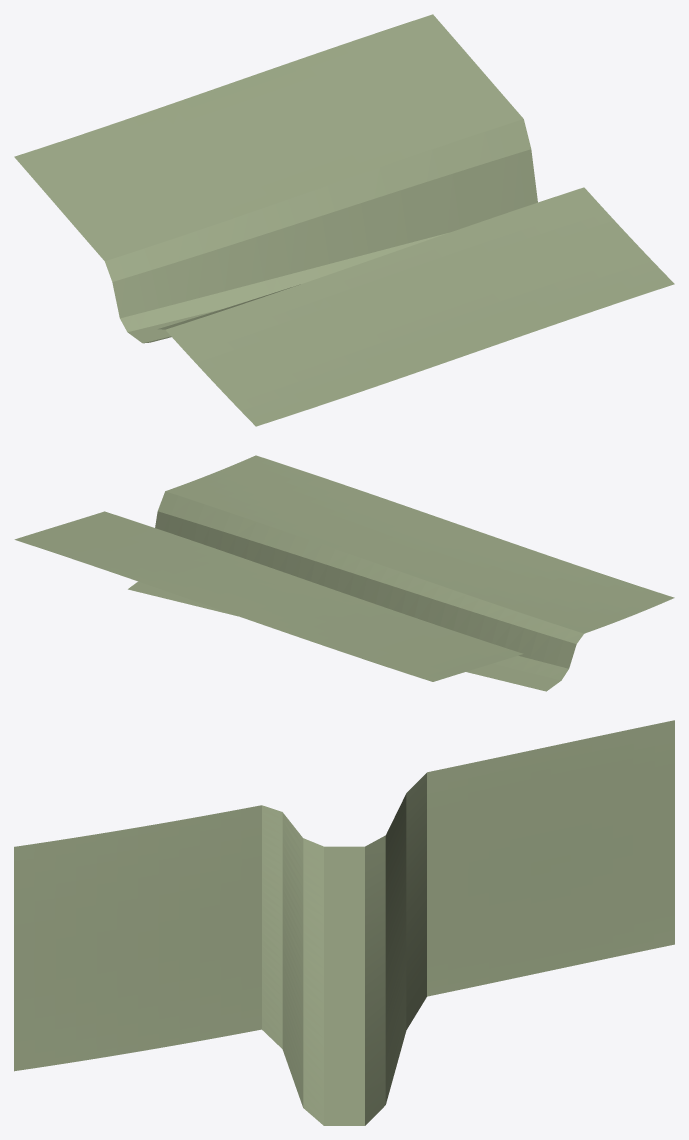
The model's file is valley-5-2.glb.
The picture shows the model from 3 angles, top to bottom: view 1: azimuth 30°, elevation 25°; view 2: azimuth 150°, elevation 25°; view 3: azimuth 270°, elevation 25°; orthographic projection. The views are drawn at different scales.
Parts seen in each view (by area): view 1: valley-5-2; view 2: valley-5-2; view 3: valley-5-2.
Boxes of the visible parts, box(x1,y1,x2,y2) form: valley-5-2: box(14, 14, 674, 426); valley-5-2: box(14, 455, 674, 691); valley-5-2: box(14, 720, 674, 1125).
Size of the model in its own units: 256 by 77.65 by 256.
